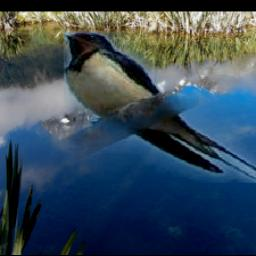Swallow: (64, 32, 256, 184)
